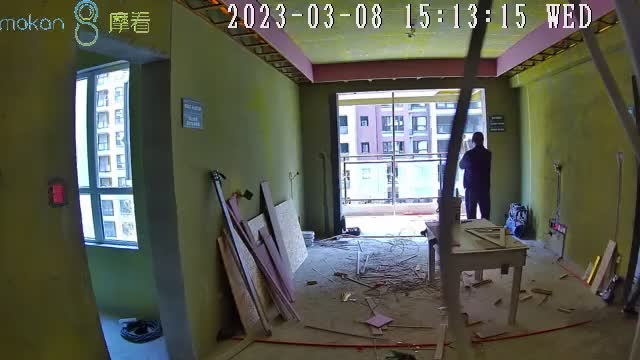people: (459, 133, 492, 219)
window: (336, 93, 478, 204)
